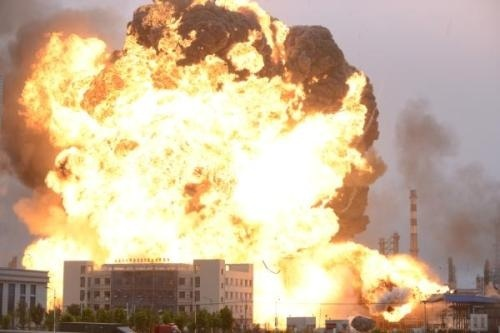fire: (21, 12, 406, 280)
